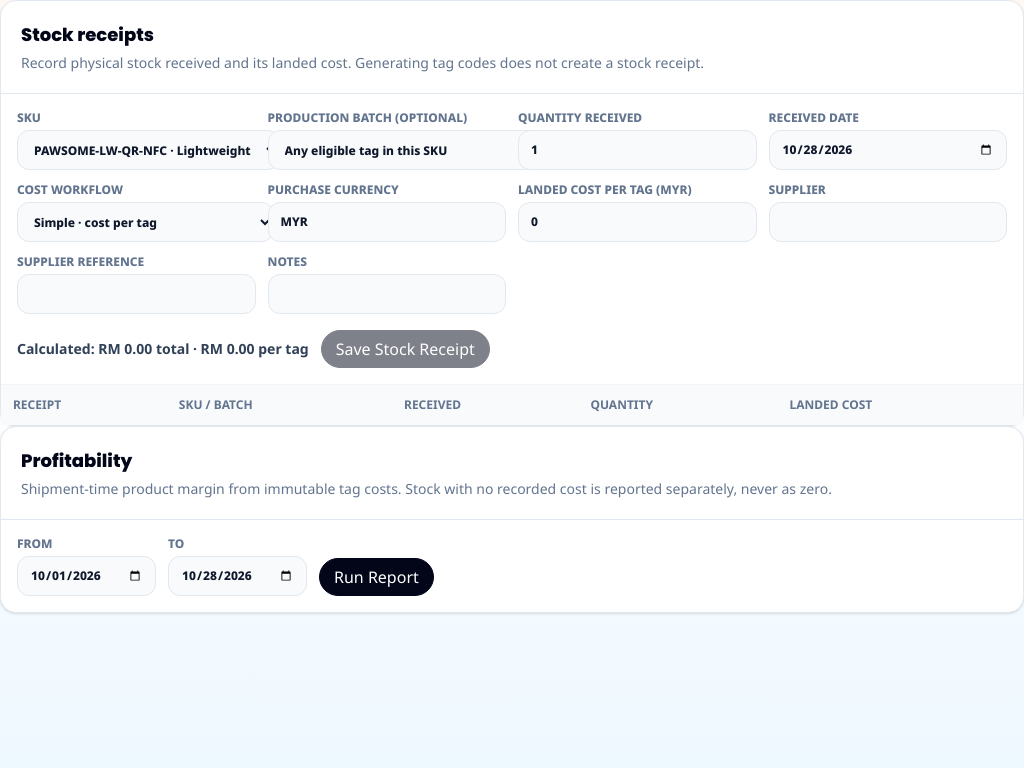
Test: AdminInventoryCostingPanel stock receipts › after an unconfirmed failure, finds a receipt that did land and says not to save it again
Select "MPL-BAT-260911002857-1515 · 300 eligible" in the dropdown labelled "Production batch (optional)" at (415, 150), box left=268, top=130, right=562, bottom=170
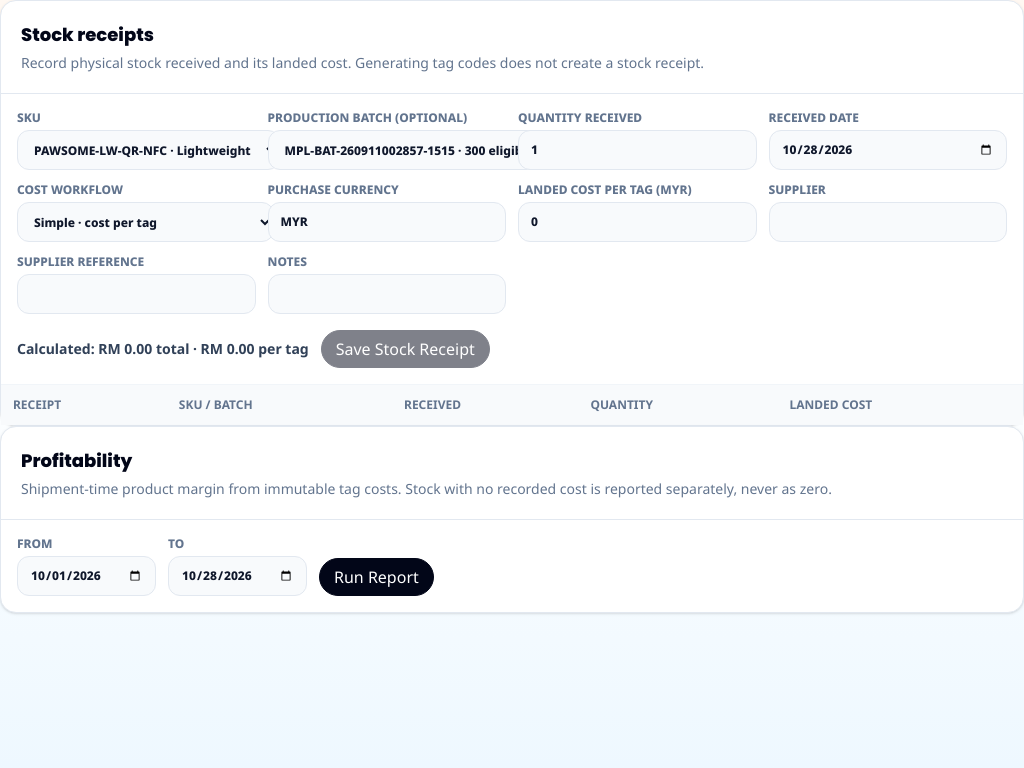
Replace the text in the number field labelled "Quantity received" with "300" at (637, 150), box left=518, top=130, right=756, bottom=170
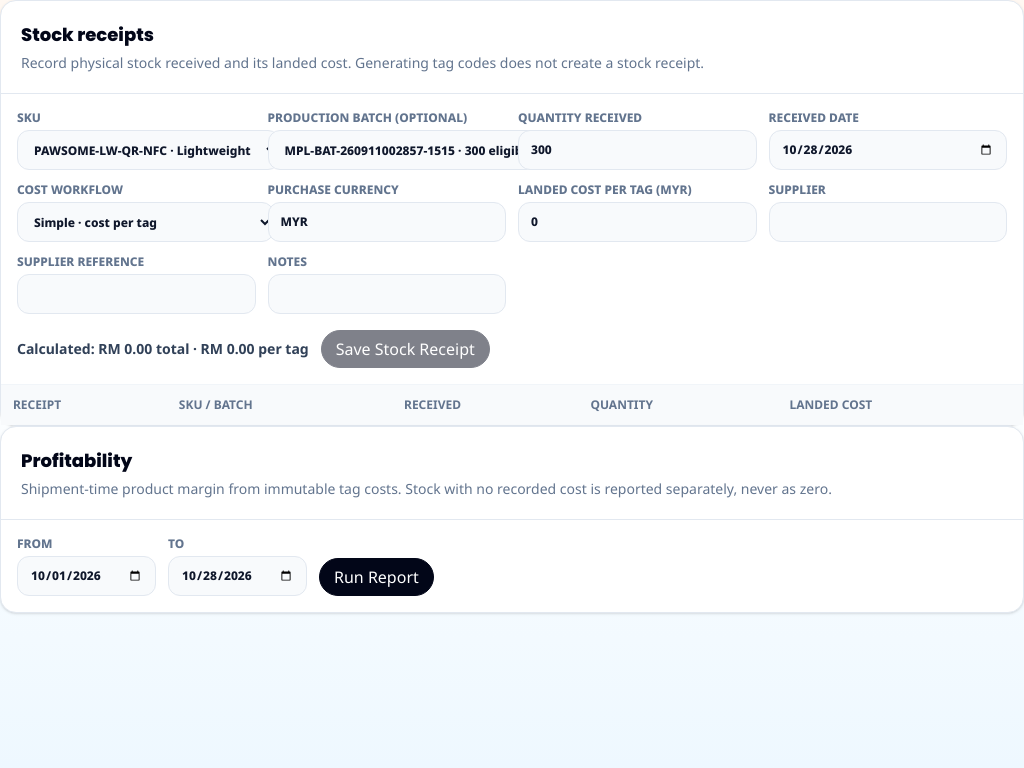
Type "2026-10-11" into the date field labelled "Received date".
click(888, 150); type("2026-10-11")  # box left=768, top=130, right=1007, bottom=170
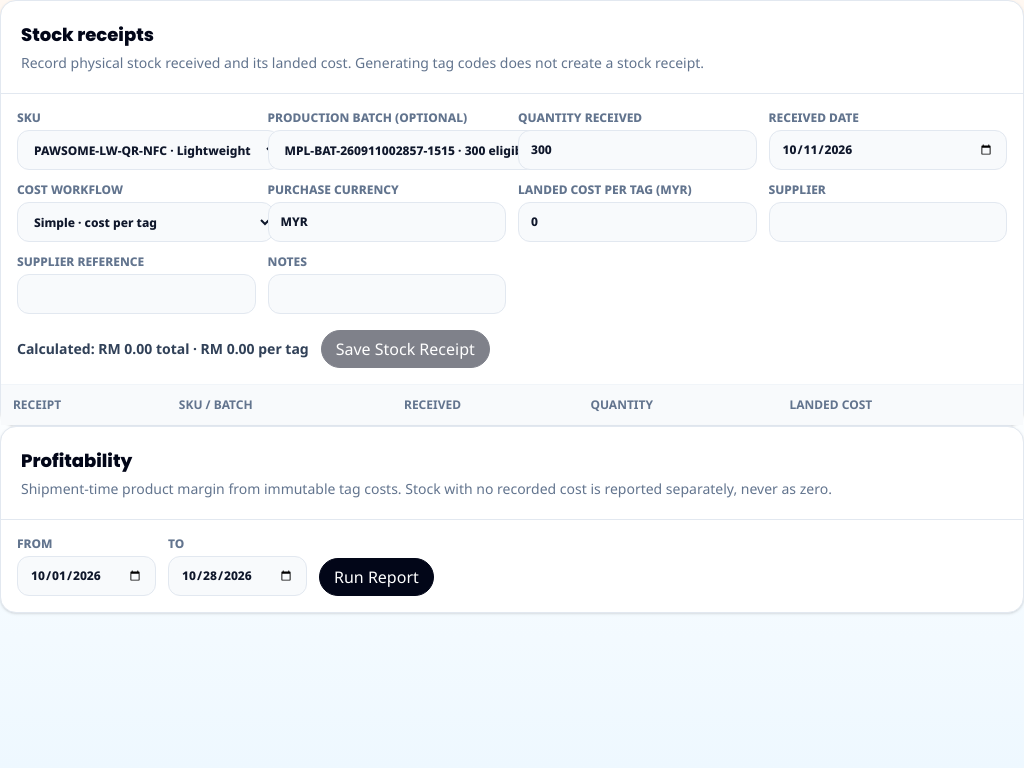
Replace the text in the number field labelled "Landed cost per tag (MYR)" with "3.1728" at (637, 222), box left=518, top=202, right=756, bottom=242
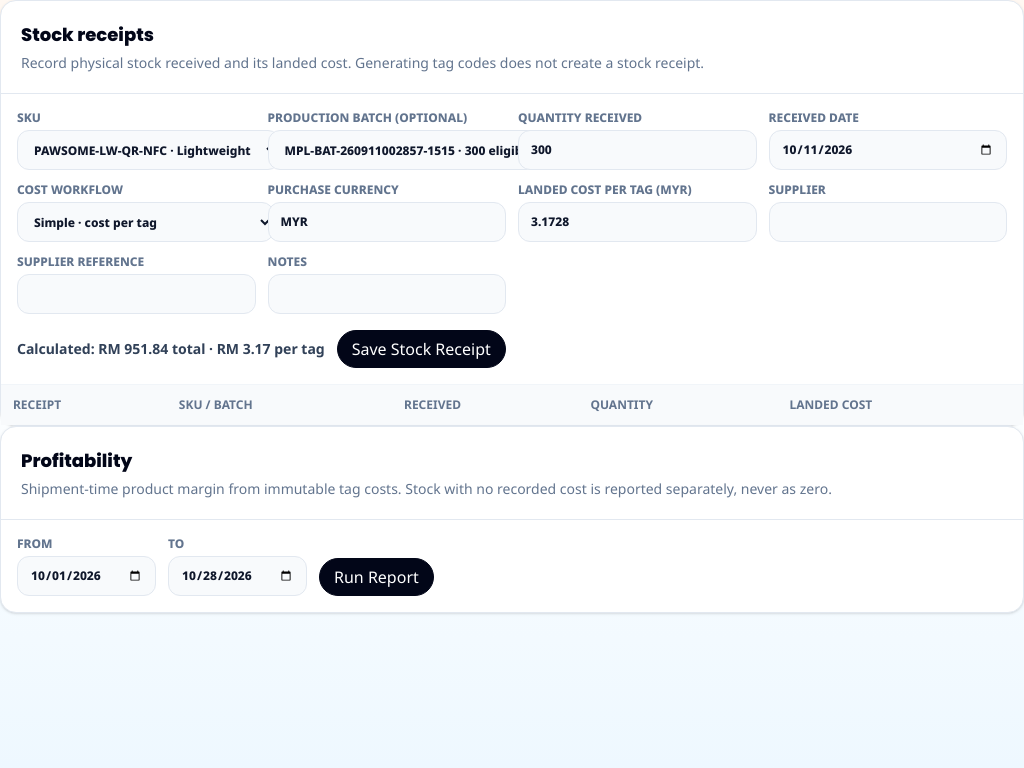
Click the button "Save Stock Receipt".
click(421, 349)  # box left=337, top=330, right=506, bottom=368
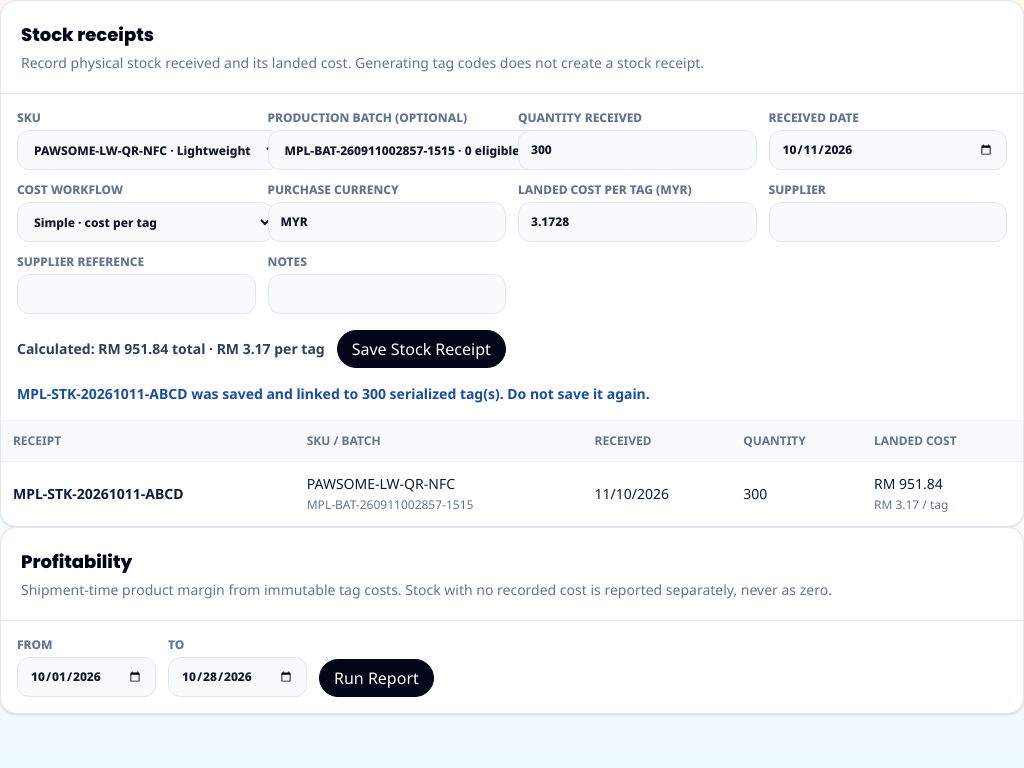
Expected: the message shows "MPL-STK-20261011-ABCD was saved and linked to 300 serialized tag(s). Do not save it again.", left=17, top=384, right=650, bottom=403
